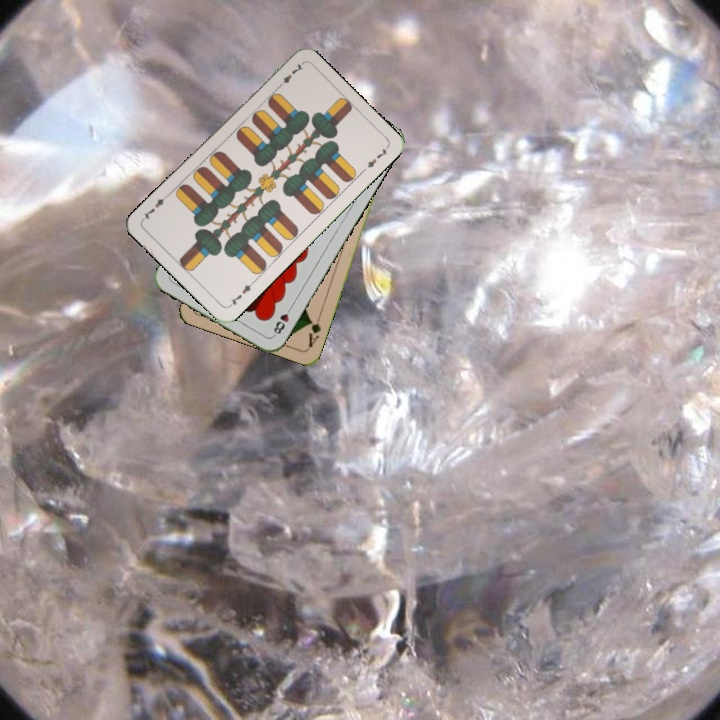E7: (273, 59, 306, 92), (225, 277, 257, 310)
GA: (304, 310, 324, 350)
H8: (269, 302, 295, 339)
